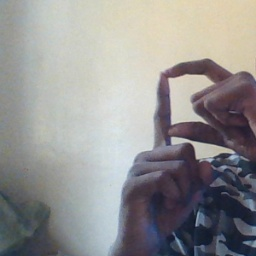D: (135, 56, 256, 172)
